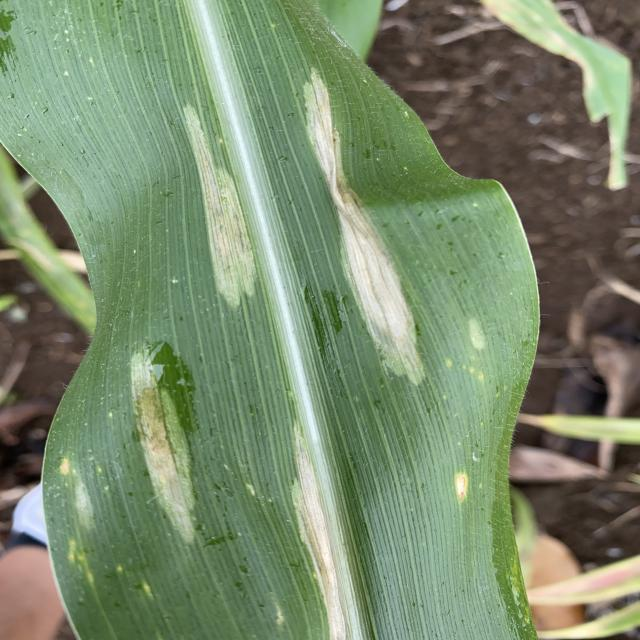Corn_Leaf_Blight: (41, 1, 542, 640)
